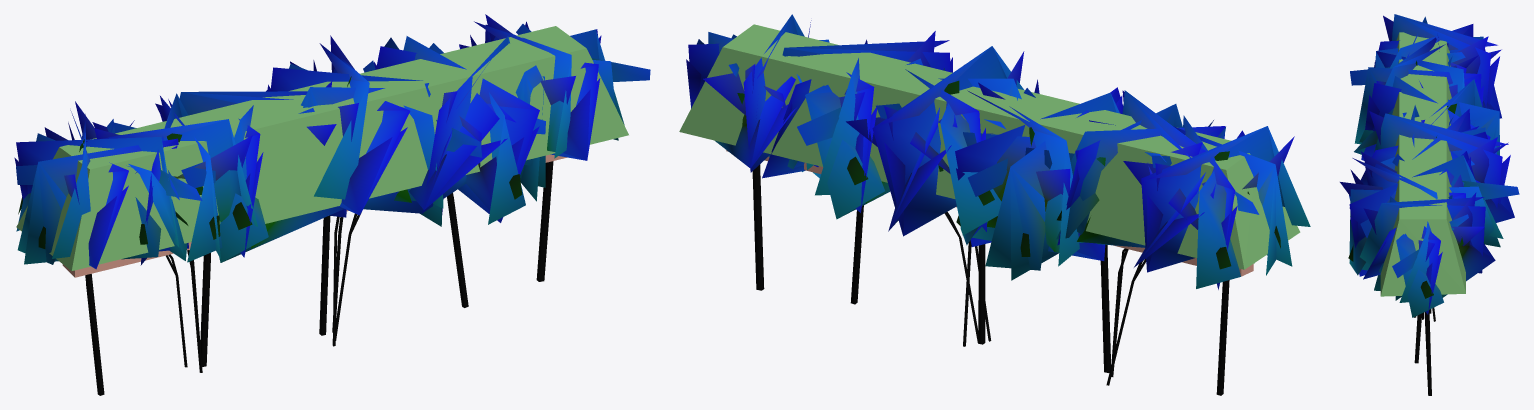
File: grape_vine.dae
3 views of the same model, side by side, from view 1: azimuth 30°, elevation 25°; view 2: azimuth 150°, elevation 25°; view 3: azimuth 270°, elevation 25° (orthographic). The views are drawn at different scales.
Parts seen in each view (by area): view 1: grape_vine_a800, Colmesh-1, grape_vine_a100; view 2: grape_vine_a800, grape_vine_a100, Colmesh-1; view 3: grape_vine_a800, grape_vine_a100, Colmesh-1.
Boxes of the visible parts, <box> form: grape_vine_a800: <box>14,14,650,395</box>; Colmesh-1: <box>16,26,628,277</box>; grape_vine_a100: <box>16,24,618,395</box>; grape_vine_a800: <box>686,15,1310,395</box>; grape_vine_a100: <box>688,14,1292,395</box>; Colmesh-1: <box>679,24,1300,276</box>; grape_vine_a800: <box>1340,14,1519,392</box>; grape_vine_a100: <box>1349,14,1514,395</box>; Colmesh-1: <box>1380,32,1465,296</box>.
Bounding box in the file's own units: 5.58 × 1.85 × 2.39.
